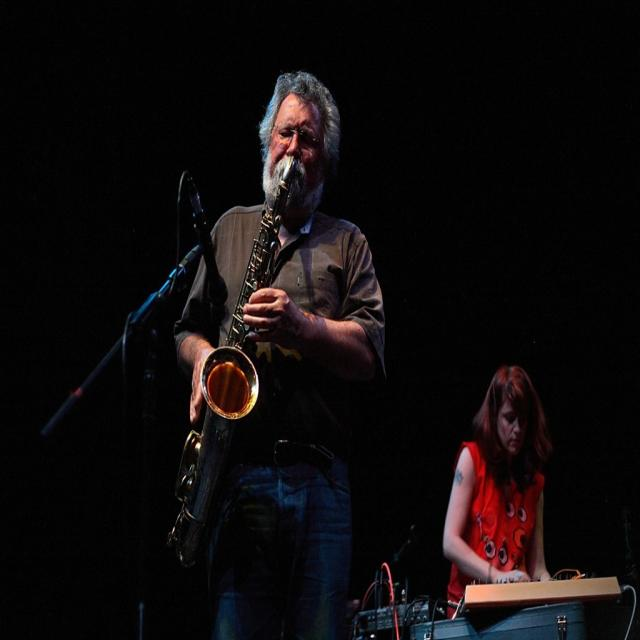saxophone: (160, 154, 301, 576)
